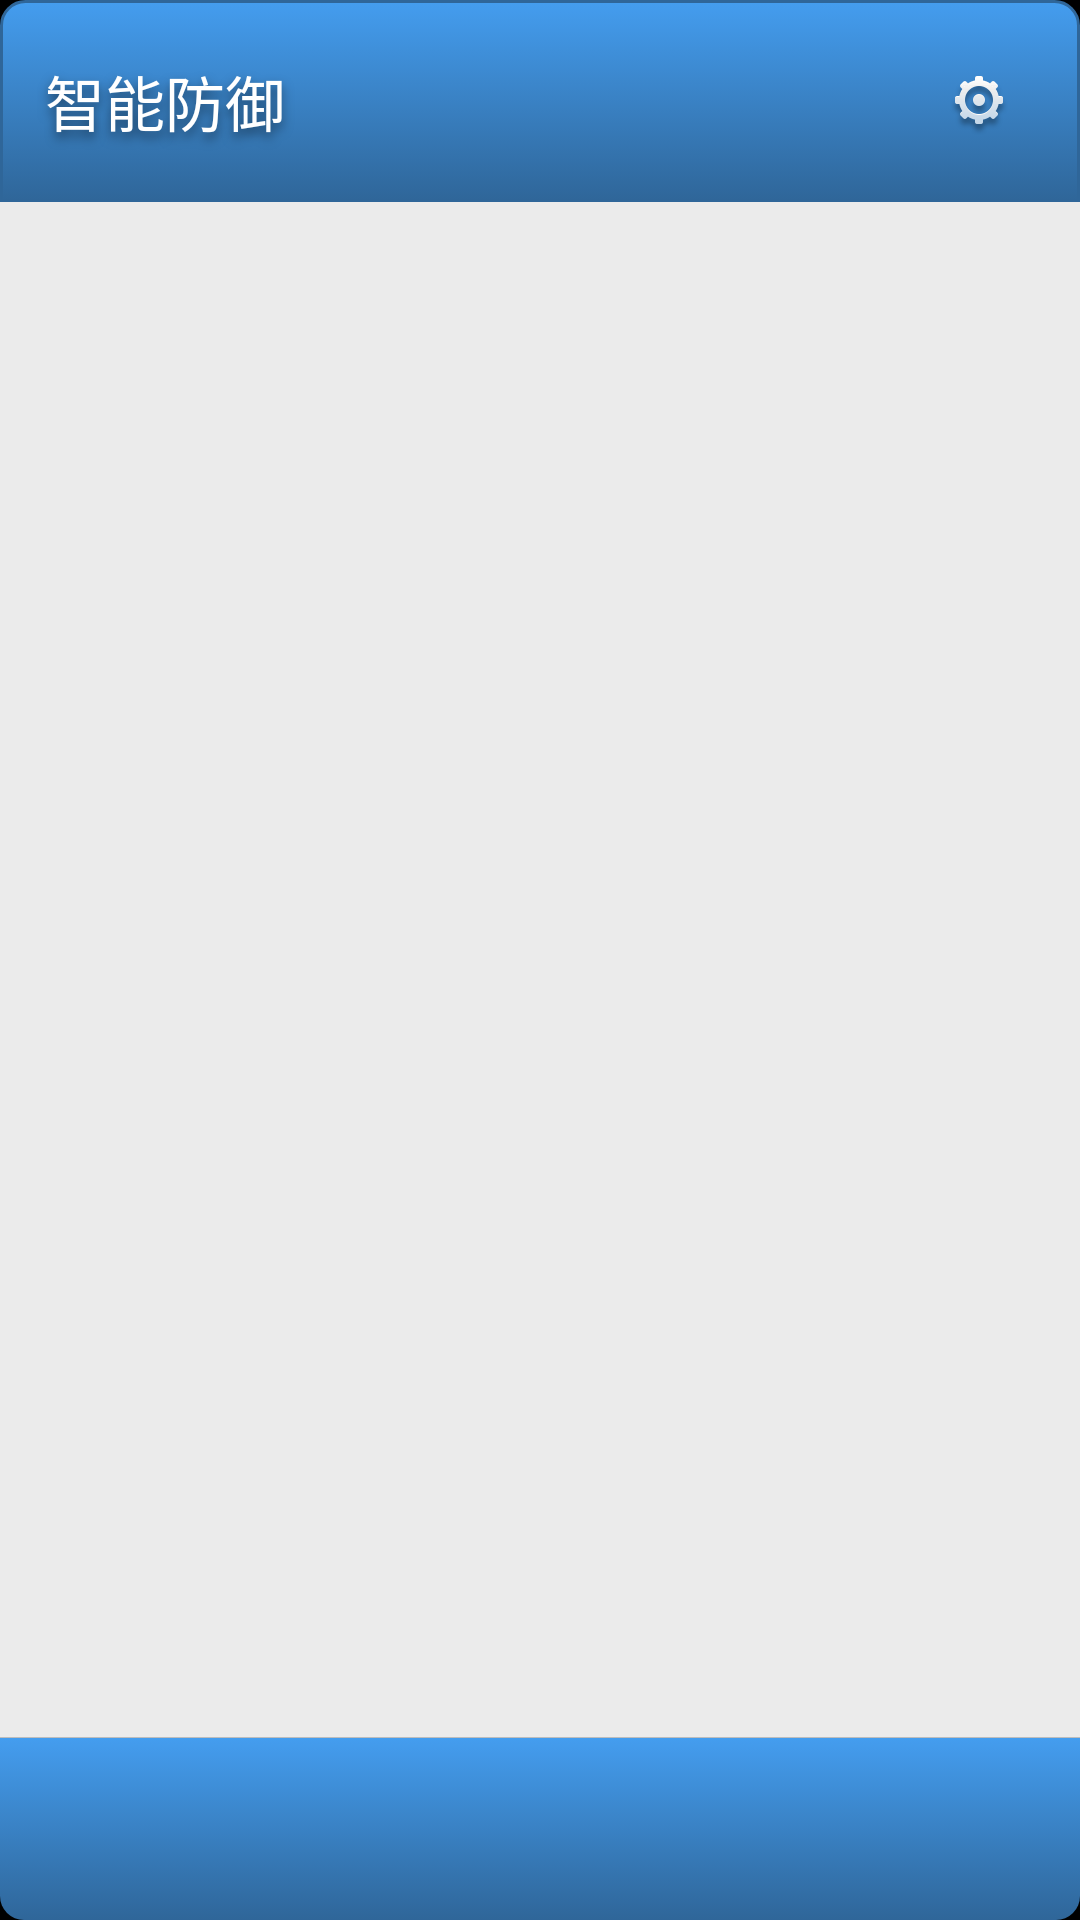

Named icons in this screenshot (1080w x 1920h) and their centers, (x,y):
general shared settings: (979,101)
